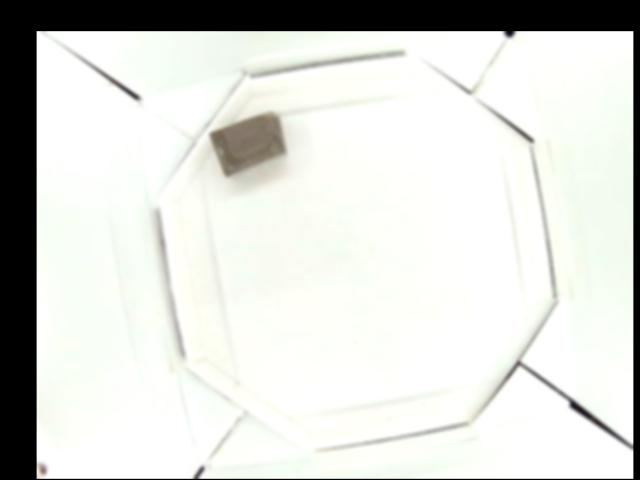China: (210, 110, 289, 172)
